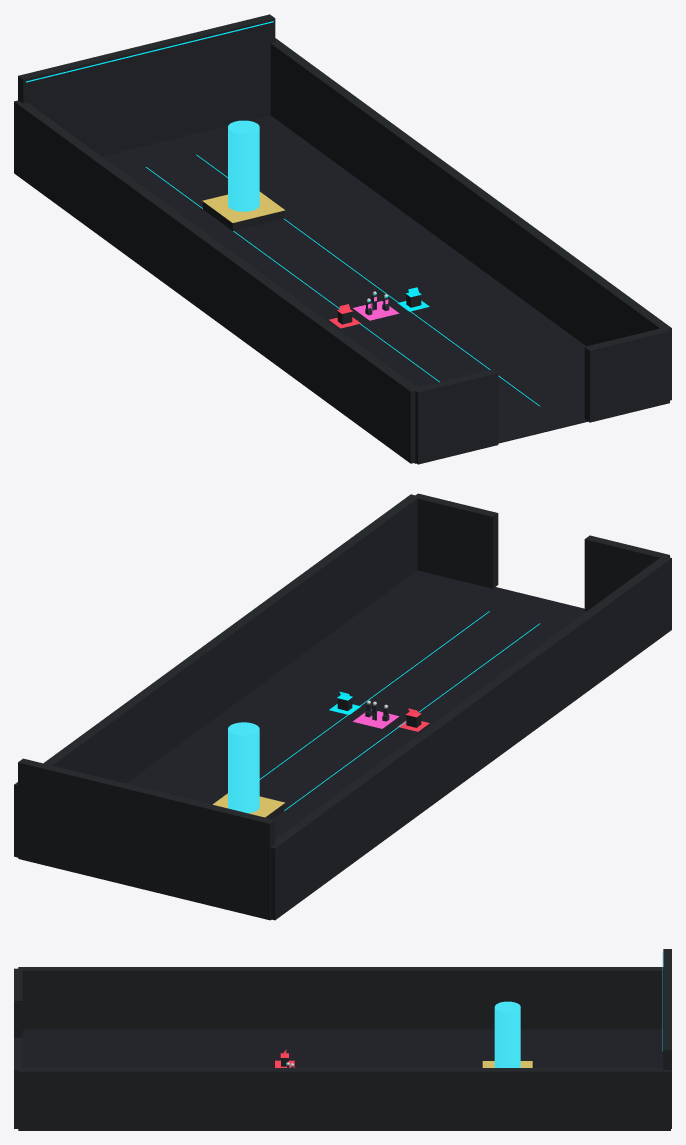
The model's file is act6.glb.
The picture shows the model from 3 angles, top to bottom: view 1: azimuth 30°, elevation 25°; view 2: azimuth 150°, elevation 25°; view 3: azimuth 270°, elevation 25°; orthographic projection. The views are drawn at different scales.
Visible parts, largest first — view 1: Act6_Floor, Act6_Wall_Left, Act6_Wall_Right, Act6_BackWall_Monolith, Act6_Wall_Entry_R, Act6_Wall_Entry_L, Act6_Mainframe_DataCorePillar, Act6_CorePedestal_Gold, Act6_CorePedestal_Base; view 2: Act6_Floor, Act6_Wall_Left, Act6_Wall_Right, Act6_BackWall_Monolith, Act6_Wall_Entry_R, Act6_Wall_Entry_L, Act6_Mainframe_DataCorePillar; view 3: Act6_Wall_Right, Act6_Wall_Left, Act6_Floor, Act6_Mainframe_DataCorePillar, Act6_BackWall_Monolith, Act6_Wall_Entry_L, Act6_Wall_Entry_R.
Part boxes in pixels (<box>): Act6_Floor: <box>102,115,587,463</box>; Act6_Wall_Left: <box>14,100,416,463</box>; Act6_Wall_Right: <box>270,38,671,400</box>; Act6_BackWall_Monolith: <box>18,14,275,156</box>; Act6_Wall_Entry_R: <box>584,327,669,422</box>; Act6_Wall_Entry_L: <box>413,369,498,464</box>; Act6_Mainframe_DataCorePillar: <box>228,120,259,211</box>; Act6_CorePedestal_Gold: <box>202,192,284,222</box>; Act6_CorePedestal_Base: <box>203,202,284,230</box>; Act6_Floor: <box>19,570,585,920</box>; Act6_Wall_Left: <box>270,556,671,920</box>; Act6_Wall_Right: <box>14,494,417,857</box>; Act6_BackWall_Monolith: <box>18,758,275,919</box>; Act6_Wall_Entry_R: <box>413,493,498,588</box>; Act6_Wall_Entry_L: <box>584,535,669,611</box>; Act6_Mainframe_DataCorePillar: <box>228,722,259,813</box>; Act6_Wall_Right: <box>18,1068,670,1130</box>; Act6_Wall_Left: <box>18,967,663,1029</box>; Act6_Floor: <box>22,1029,663,1067</box>; Act6_Mainframe_DataCorePillar: <box>494,1001,520,1067</box>; Act6_BackWall_Monolith: <box>663,949,671,1128</box>; Act6_Wall_Entry_L: <box>14,968,22,1037</box>; Act6_Wall_Entry_R: <box>14,1037,22,1128</box>.
Bounding box in the file's own units: 22.8 × 8.1 × 60.5.
